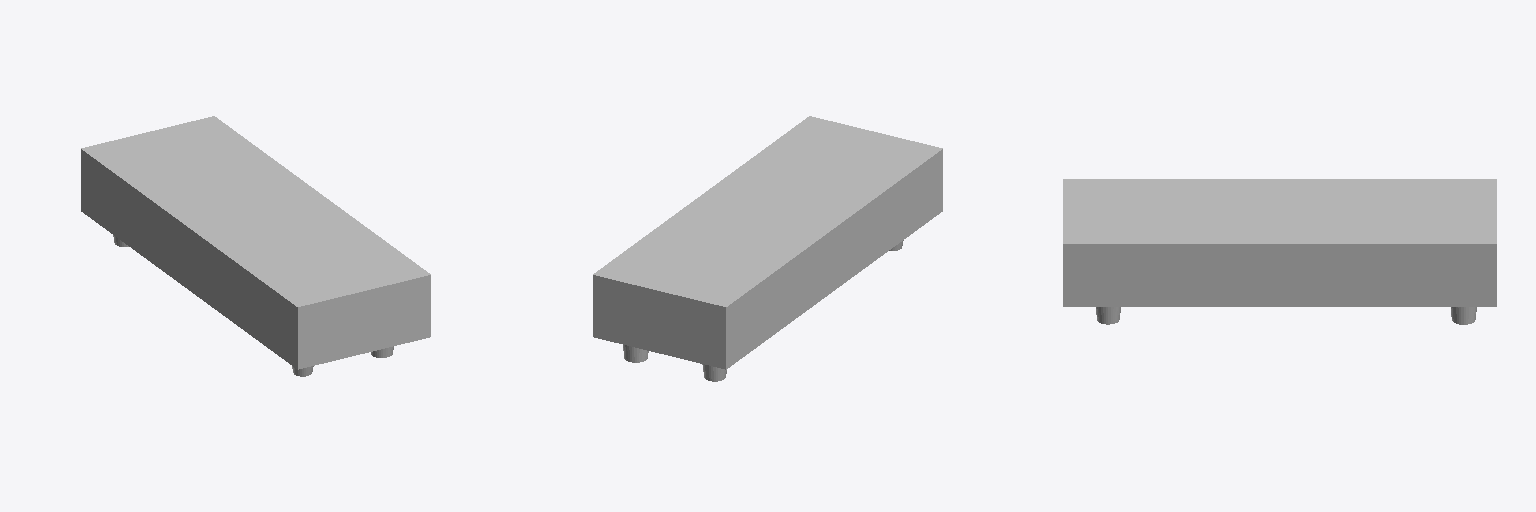
Rendered from Bench.obj.
3 renders of one model, left to right at view 1: azimuth 30°, elevation 25°; view 2: azimuth 150°, elevation 25°; view 3: azimuth 270°, elevation 25°, orthographic.
Parts seen in each view (by area): view 1: Cylinder.000; view 2: Cylinder.000; view 3: Cylinder.000.
Boxes of the visible parts, x1,y1,x2,y2 form: Cylinder.000: [81, 116, 430, 376]; Cylinder.000: [593, 116, 942, 381]; Cylinder.000: [1063, 179, 1496, 324].
Bounding box in the file's own units: 0.3766 × 0.2385 × 1.06.